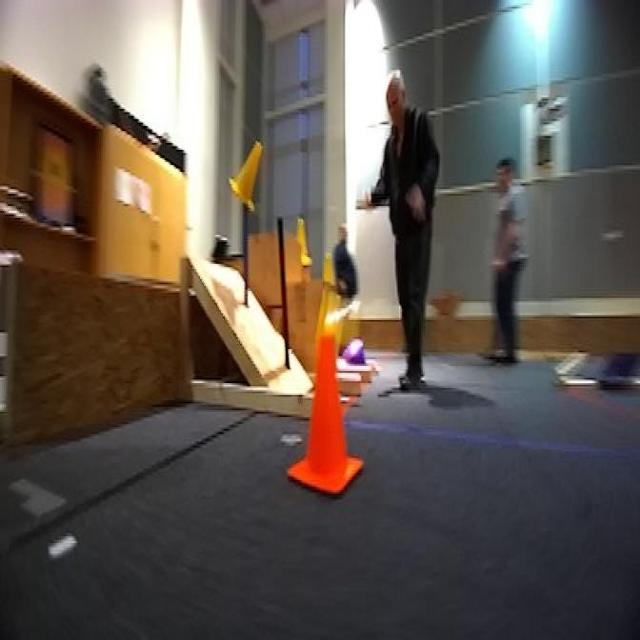frc_cone: (317, 288, 365, 340), (233, 142, 260, 204), (314, 248, 336, 294), (294, 210, 312, 266)
frc_cube: (339, 339, 365, 369)
